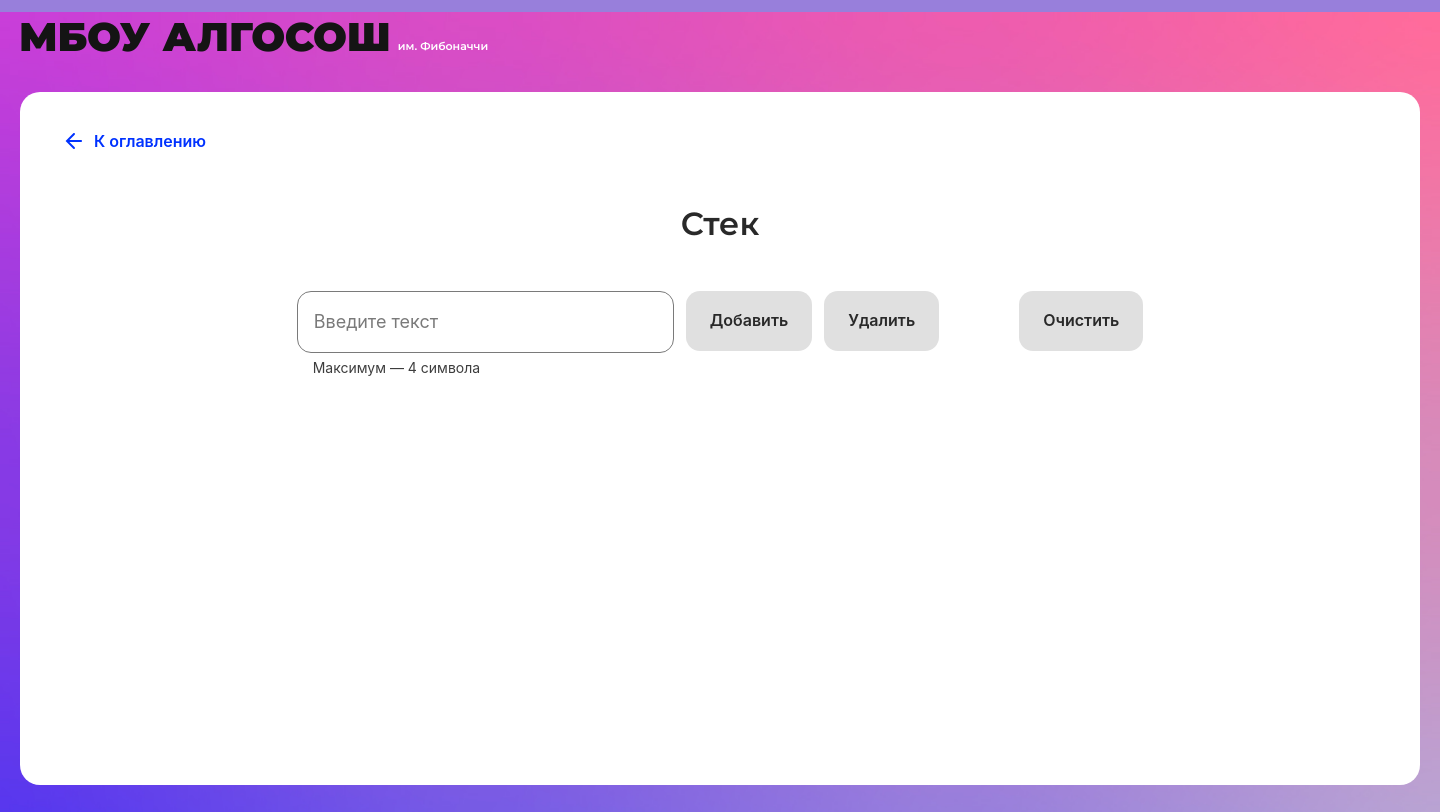
Scenario: Тестирование страницы удаления и добавления данных в стек: › Проверка корректности очистки стека
The width and height of the screenshot is (1440, 812).
Expected: the button with test id "clearButton" is disabled, [1019,291,1143,351]
Step 1. Type "test" into the field with placeholder "Введите текст" → (486, 322), box [297,291,674,353]
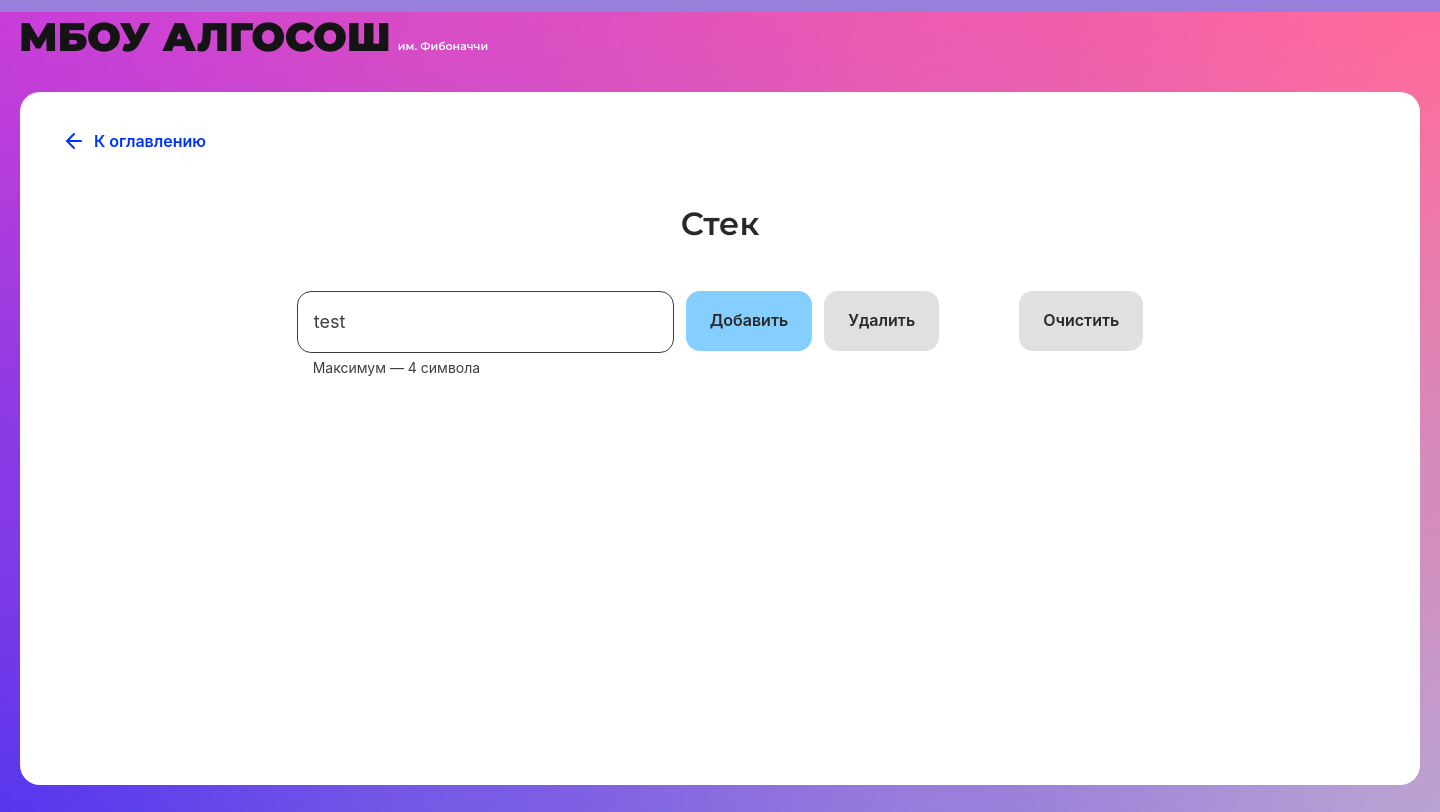
Step 2. Click the submit button → click(750, 321), box [686,291,813,351]
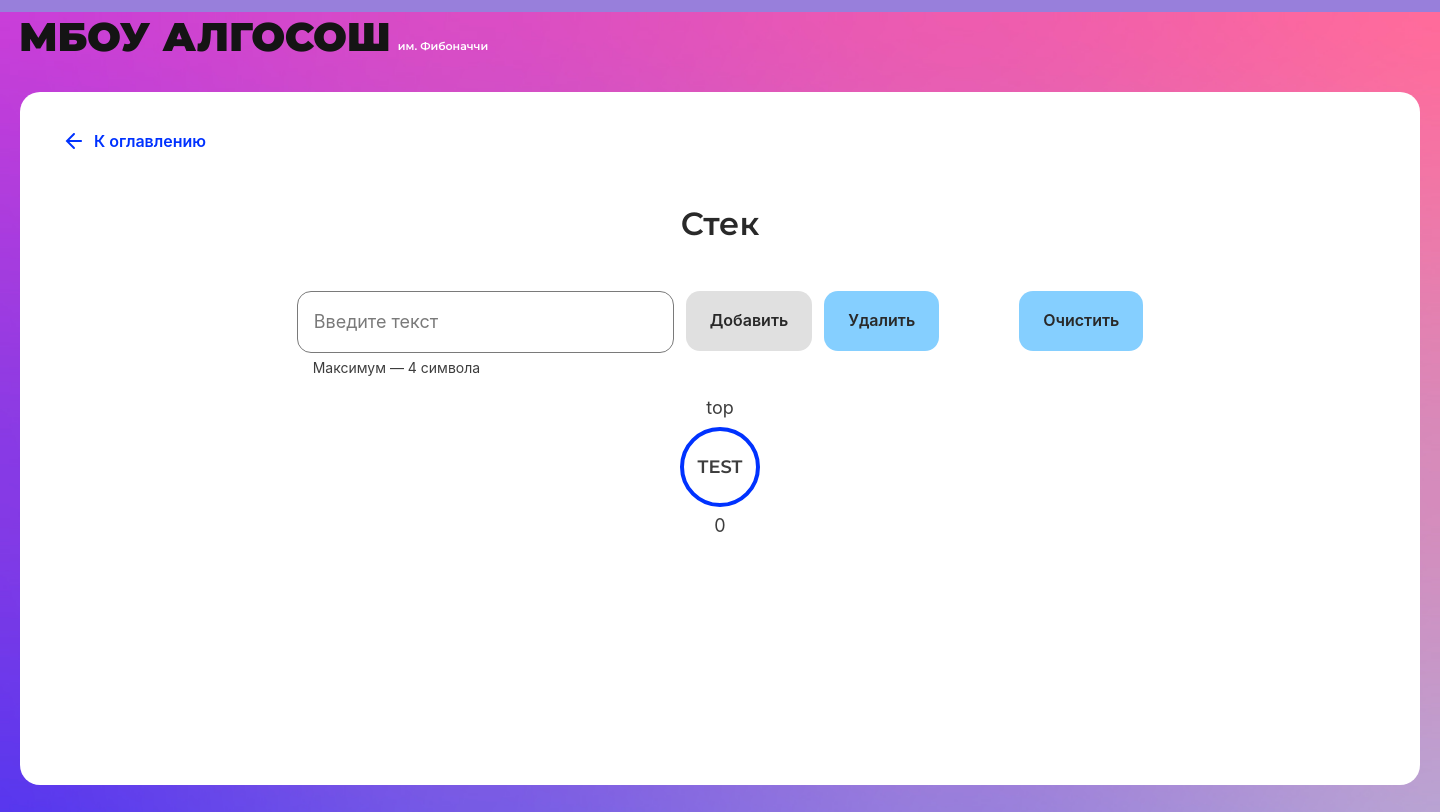
Expected: the element with test id "clearButton" is enabled
Step 3. Type "test" into the field with placeholder "Введите текст" → (486, 322), box [297,291,674,353]
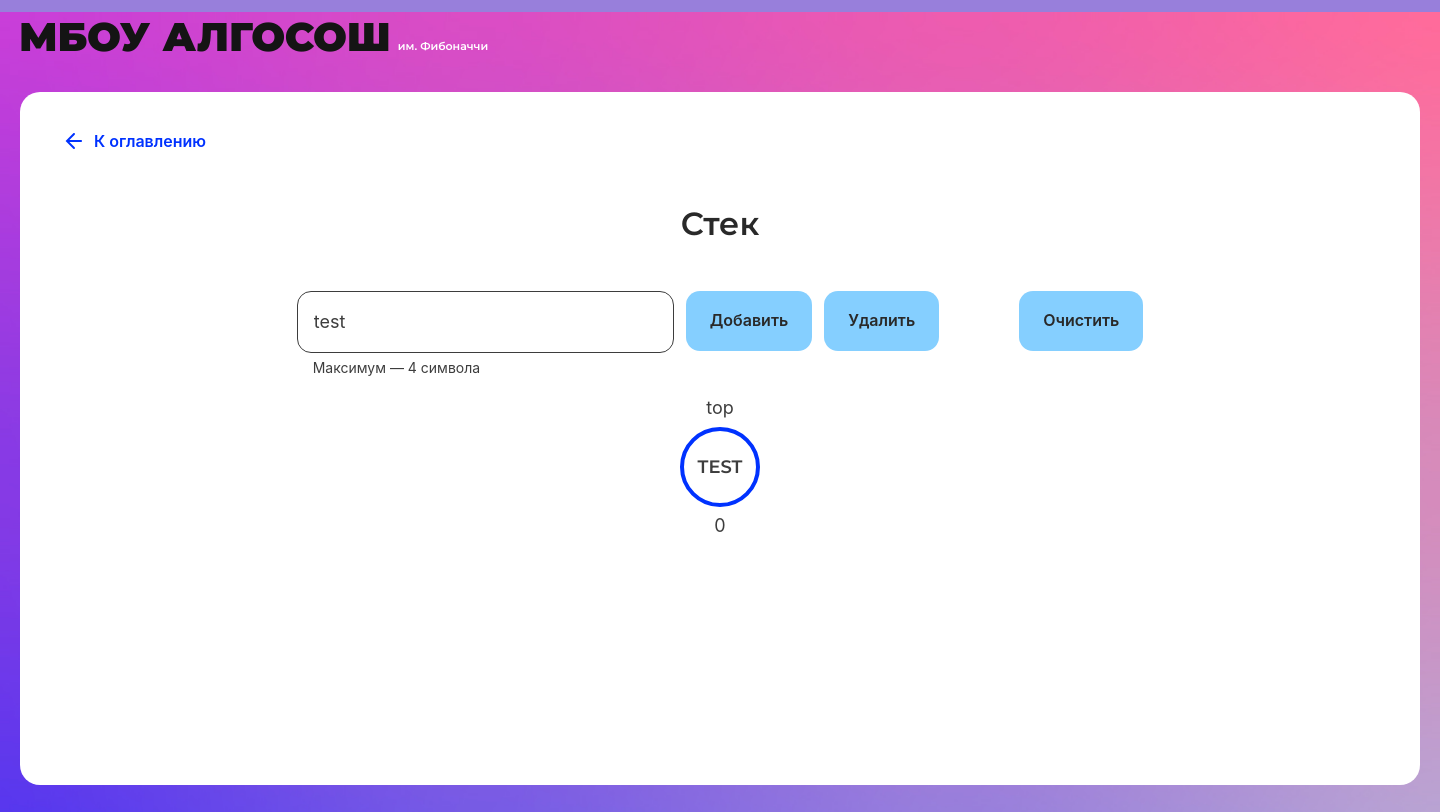
Step 4. Click the submit button → click(750, 321), box [686,291,813,351]
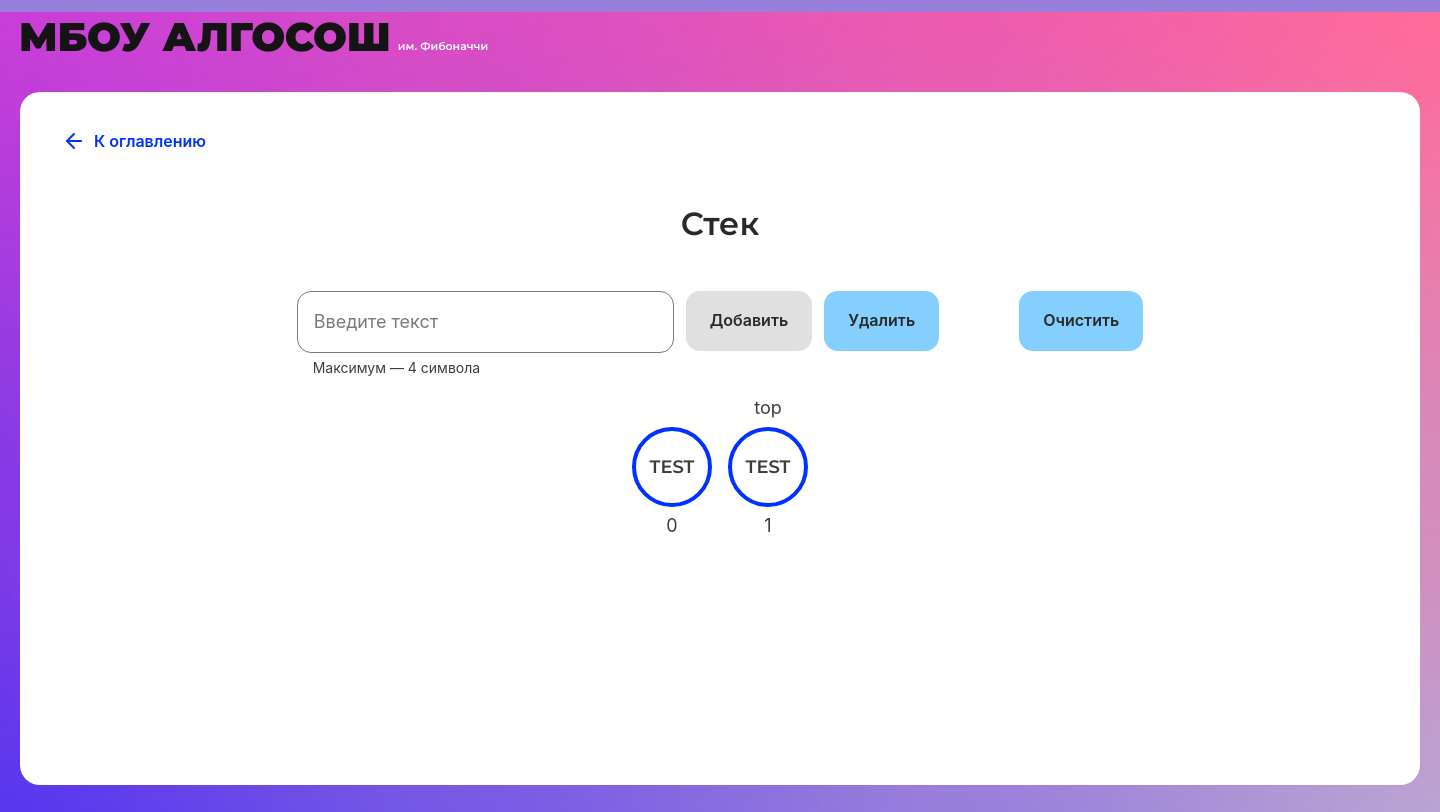
Expected: the element with test id "clearButton" is enabled
Step 5. Click the button with test id "clearButton" → click(1081, 321), box [1019,291,1143,351]
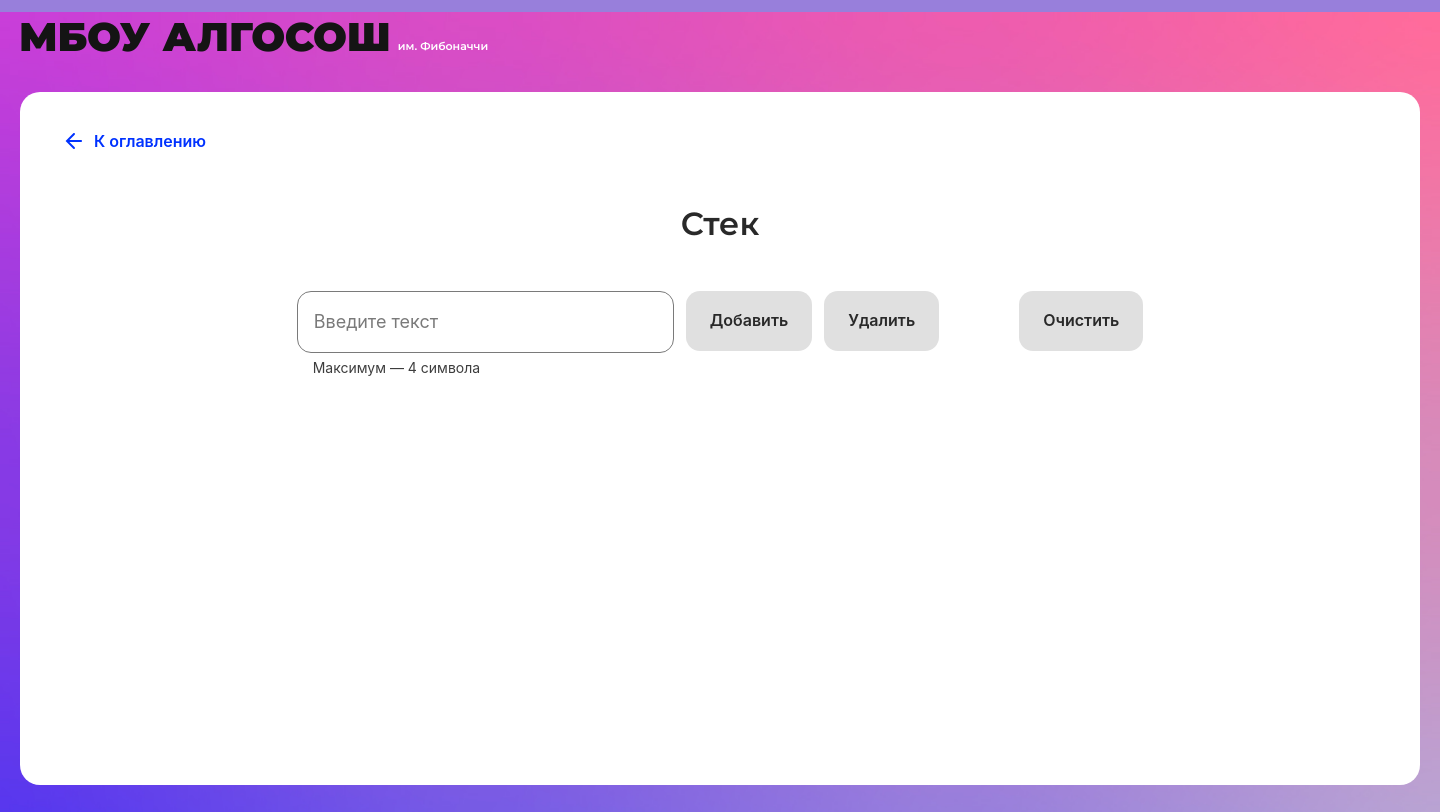
Now the button with test id "clearButton" is disabled, box [1019,291,1143,351]
